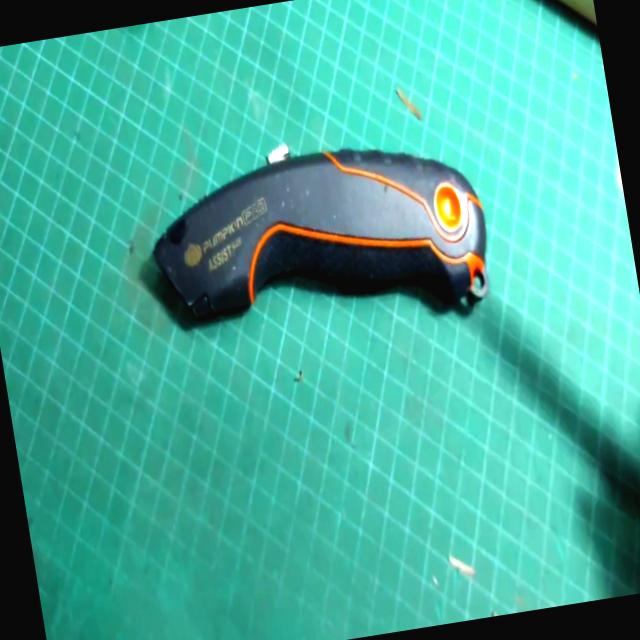cutter: (116, 103, 545, 413)
